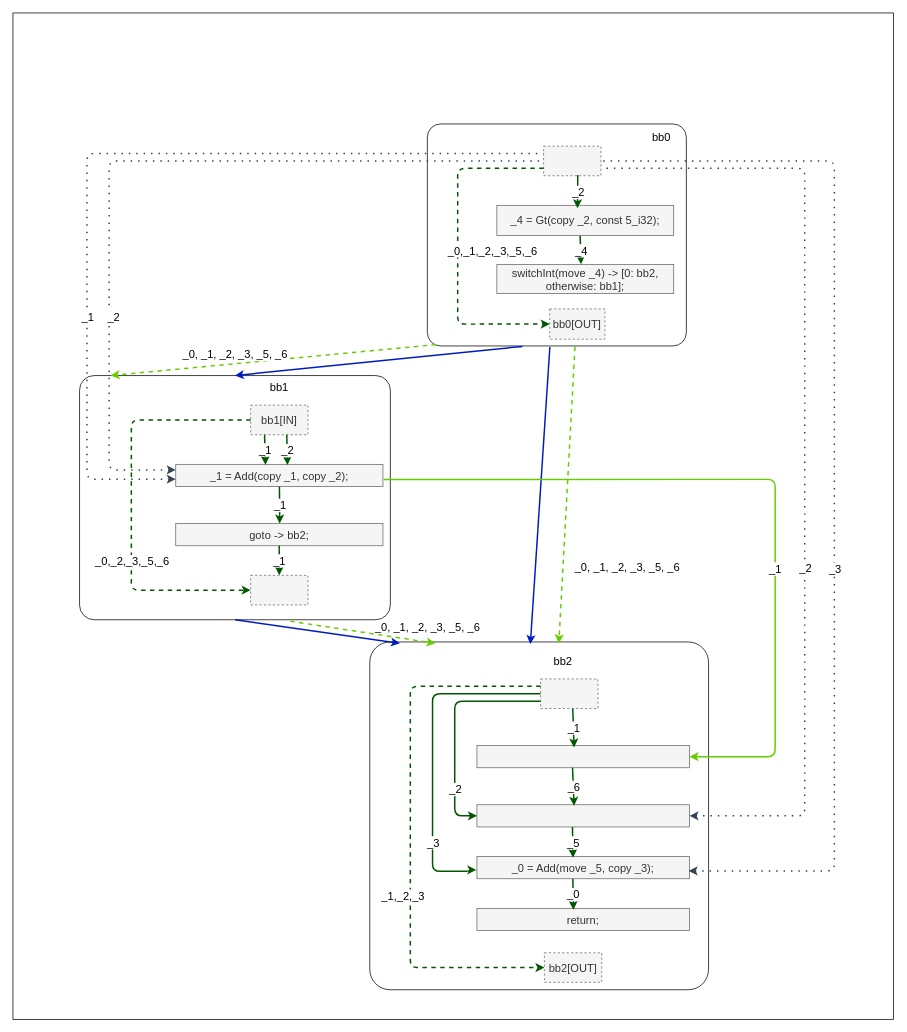
Some shapes in this 907 by 1032 pixel diagram are drawn without their labels. The centre of each missing label's shape, as x and y in pixels:
"5 = Add(move _6, copy _2);" belongs at [583,815].
"_6 = copy _1;" belongs at [583,756].
"bb0[IN]" belongs at [572,160].
"bb1[OUT]" belongs at [279,590].
"bb2 [IN]" belongs at [569,693].
